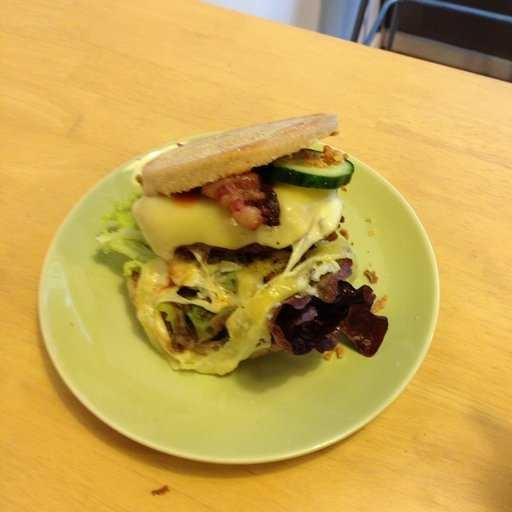hamburger: (160, 111, 370, 370)
